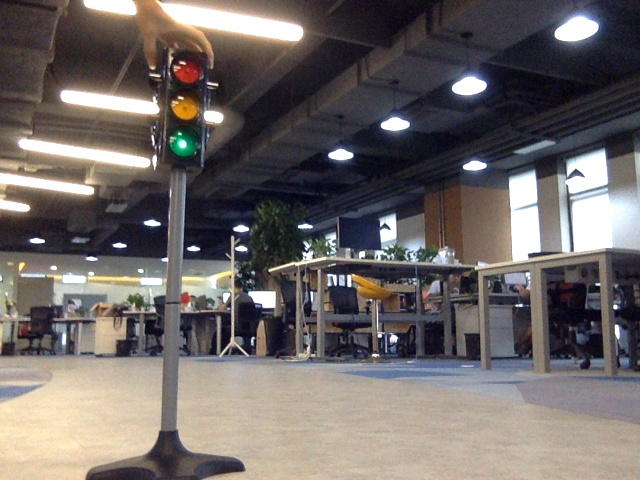green: (164, 58, 205, 162)
